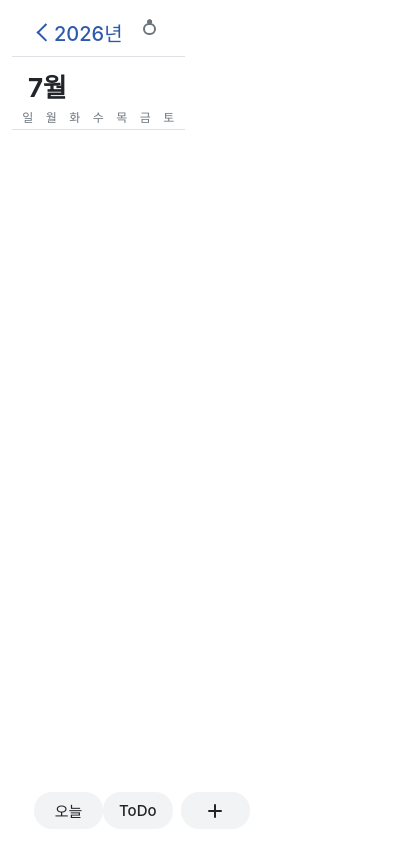
Test: 뷰 전환 › Month 뷰에서 당월을 보는 중 오늘 버튼을 누르면 Day 뷰로 이동한다
Click the button with test id "btn-today".
click(68, 810)  # box 34,792 -> 103,829
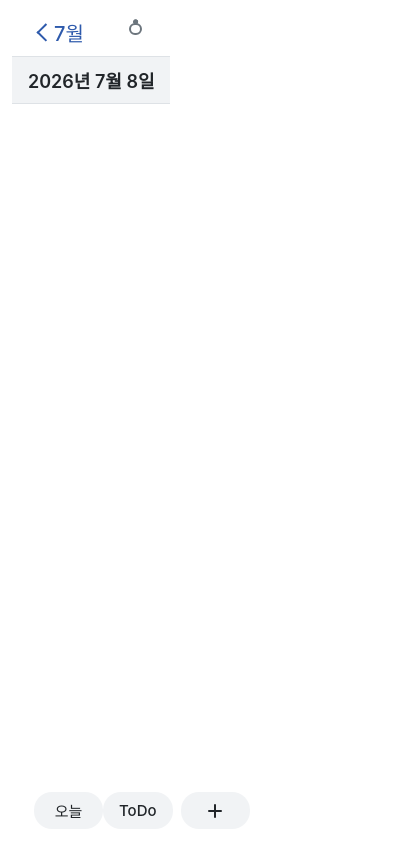
Expected: the element with test id "view-day" is shown, 12,57 -> 170,104
